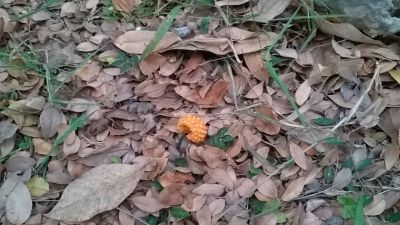eggs: (177, 112, 208, 144)
